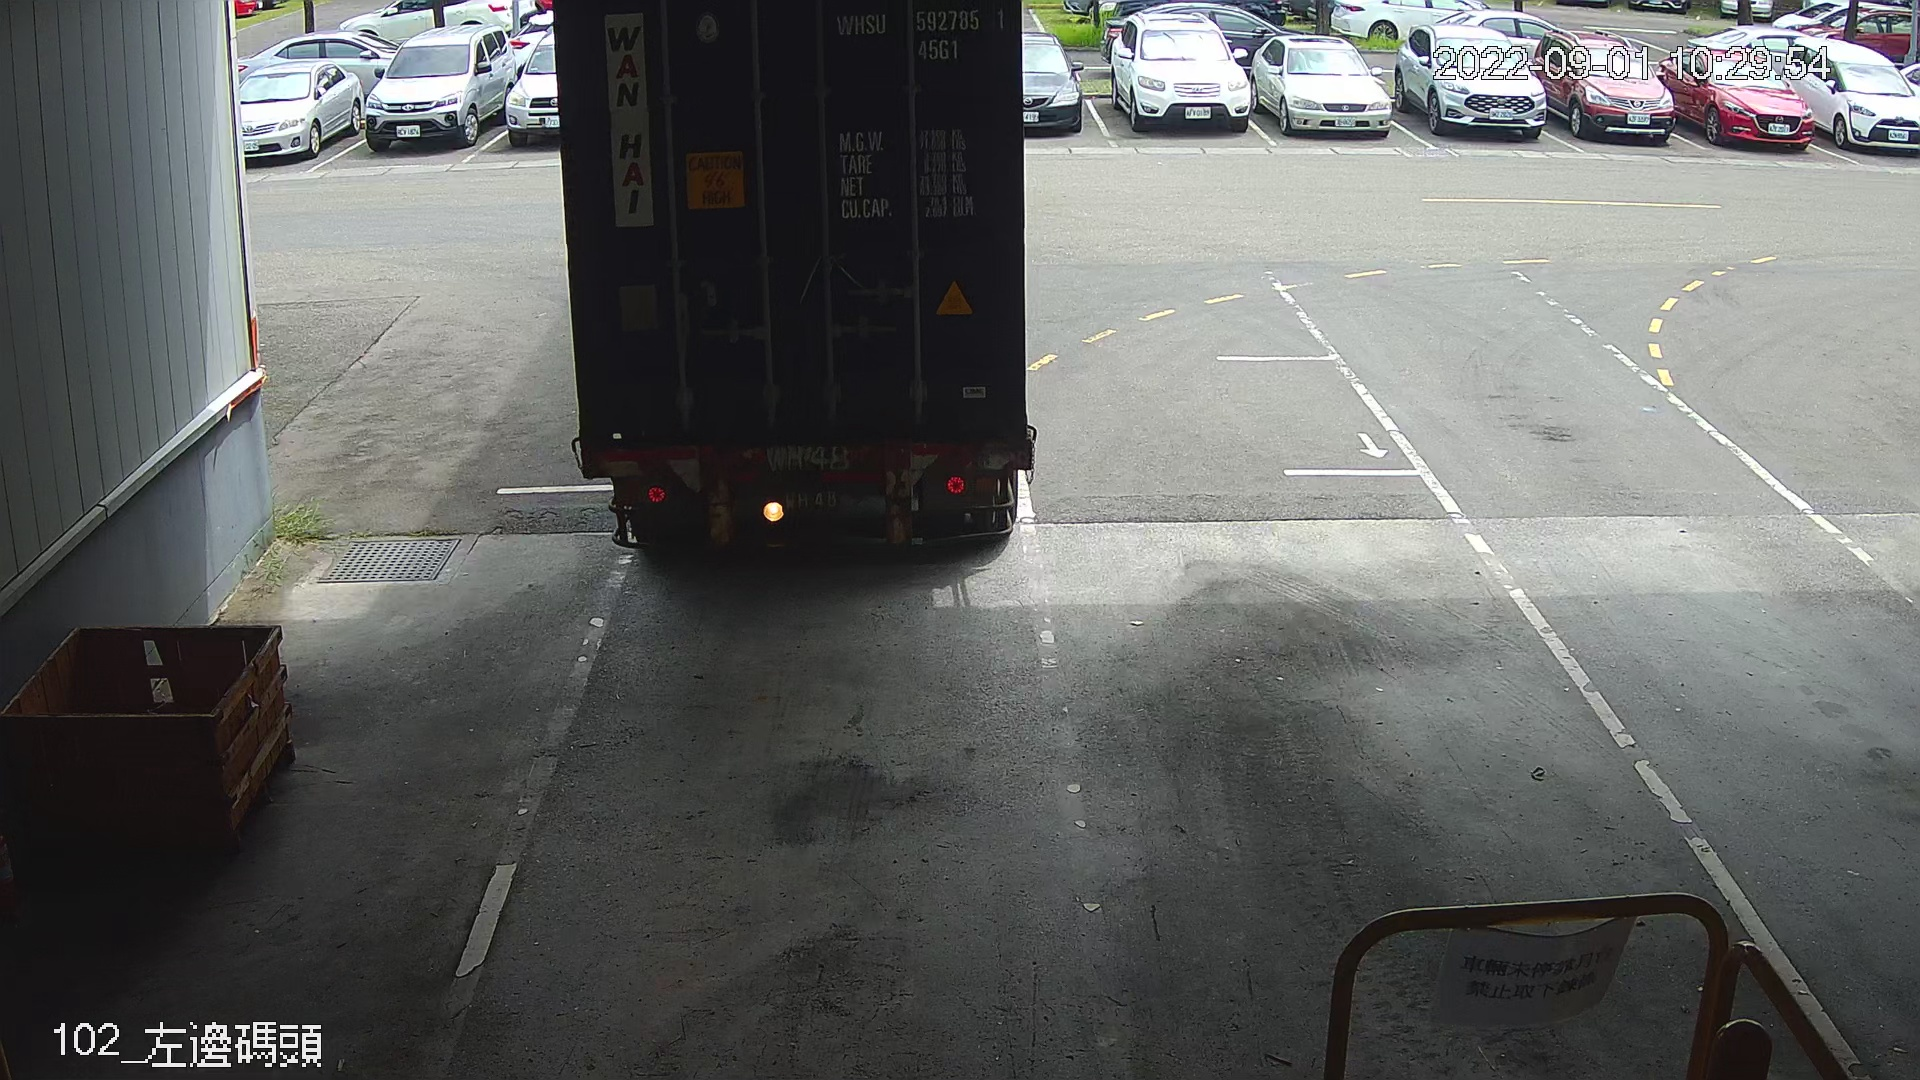container: (829, 5, 1010, 67)
